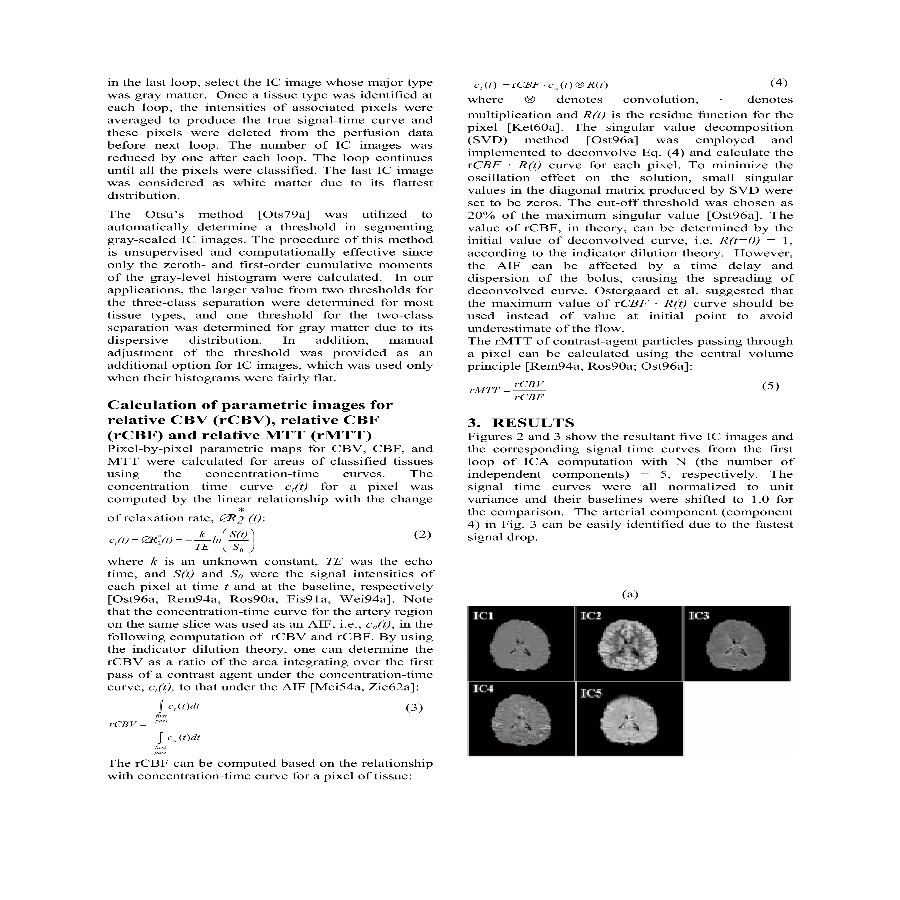eq: (107, 695, 207, 756), (105, 527, 258, 556), (463, 379, 553, 403), (468, 78, 613, 92)
